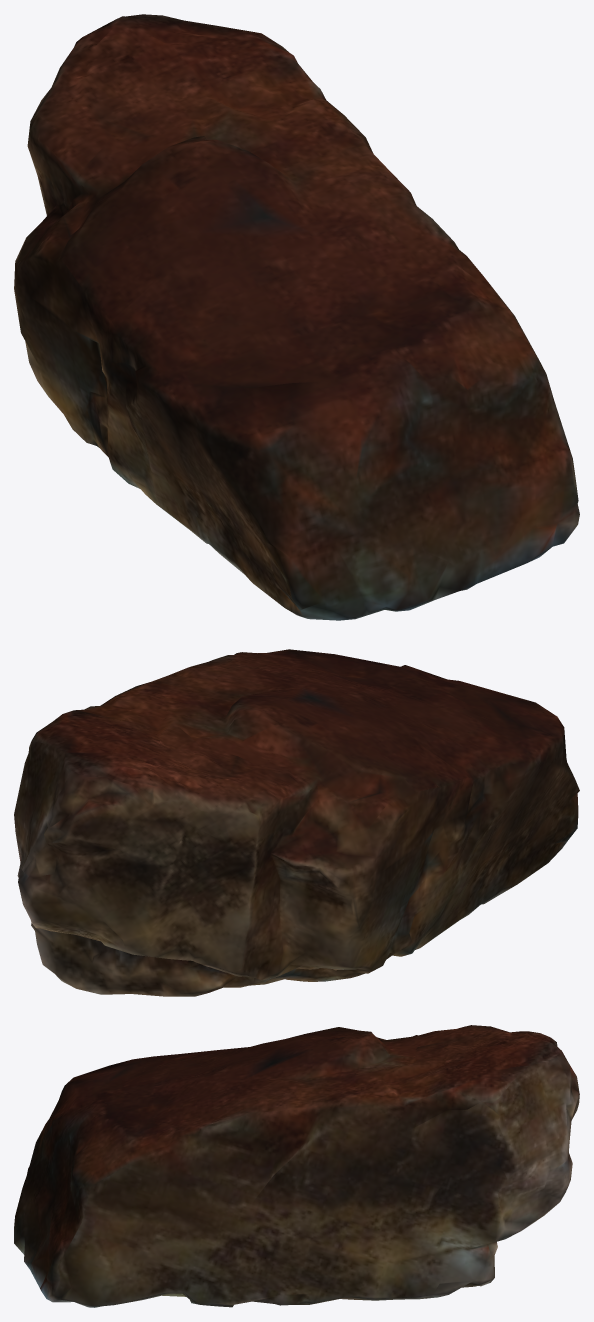
File: rock_07.glb
3 views of the same model, one above another, from view 1: azimuth 30°, elevation 25°; view 2: azimuth 150°, elevation 25°; view 3: azimuth 270°, elevation 25° (orthographic). The views are drawn at different scales.
Parts seen in each view (by area): view 1: rock_07; view 2: rock_07; view 3: rock_07.
Boxes of the visible parts, x1=… form: rock_07: x1=14, y1=14, x2=579, y2=620; rock_07: x1=14, y1=649, x2=579, y2=996; rock_07: x1=14, y1=1025, x2=579, y2=1307.
Size of the model in its own units: 0.1681 by 0.1437 by 0.3199.
Materials: 1 (1 with a texture image).
